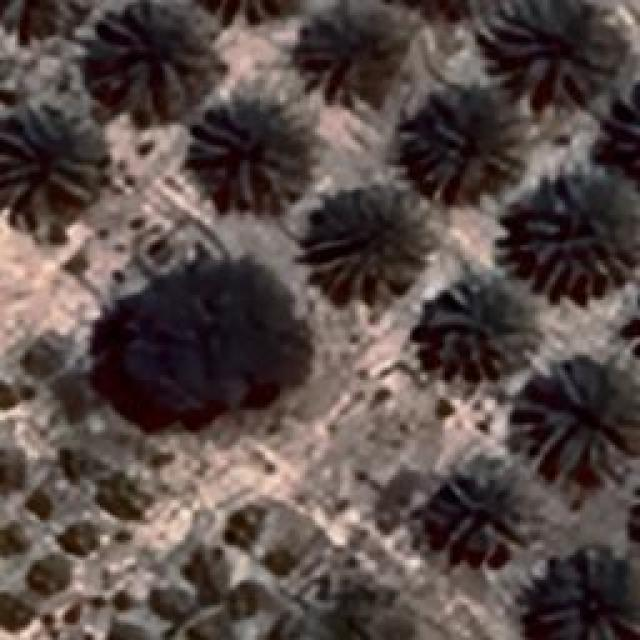PalmTree: (45, 16, 348, 95), (304, 180, 438, 305), (515, 162, 635, 300), (512, 358, 638, 480), (92, 0, 218, 118), (400, 90, 525, 202), (427, 268, 545, 380), (190, 100, 305, 210), (489, 0, 612, 102), (432, 460, 542, 555), (530, 544, 635, 638), (0, 115, 98, 210), (608, 78, 640, 188), (189, 0, 307, 24), (622, 278, 640, 376), (629, 280, 640, 378)
